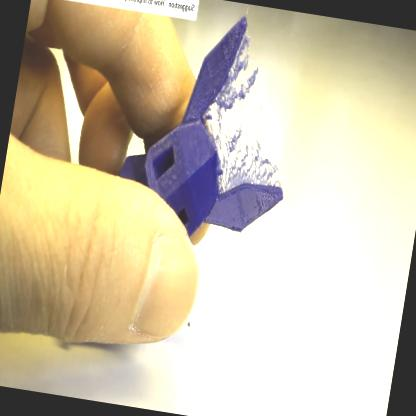fail: (215, 37, 295, 188)
